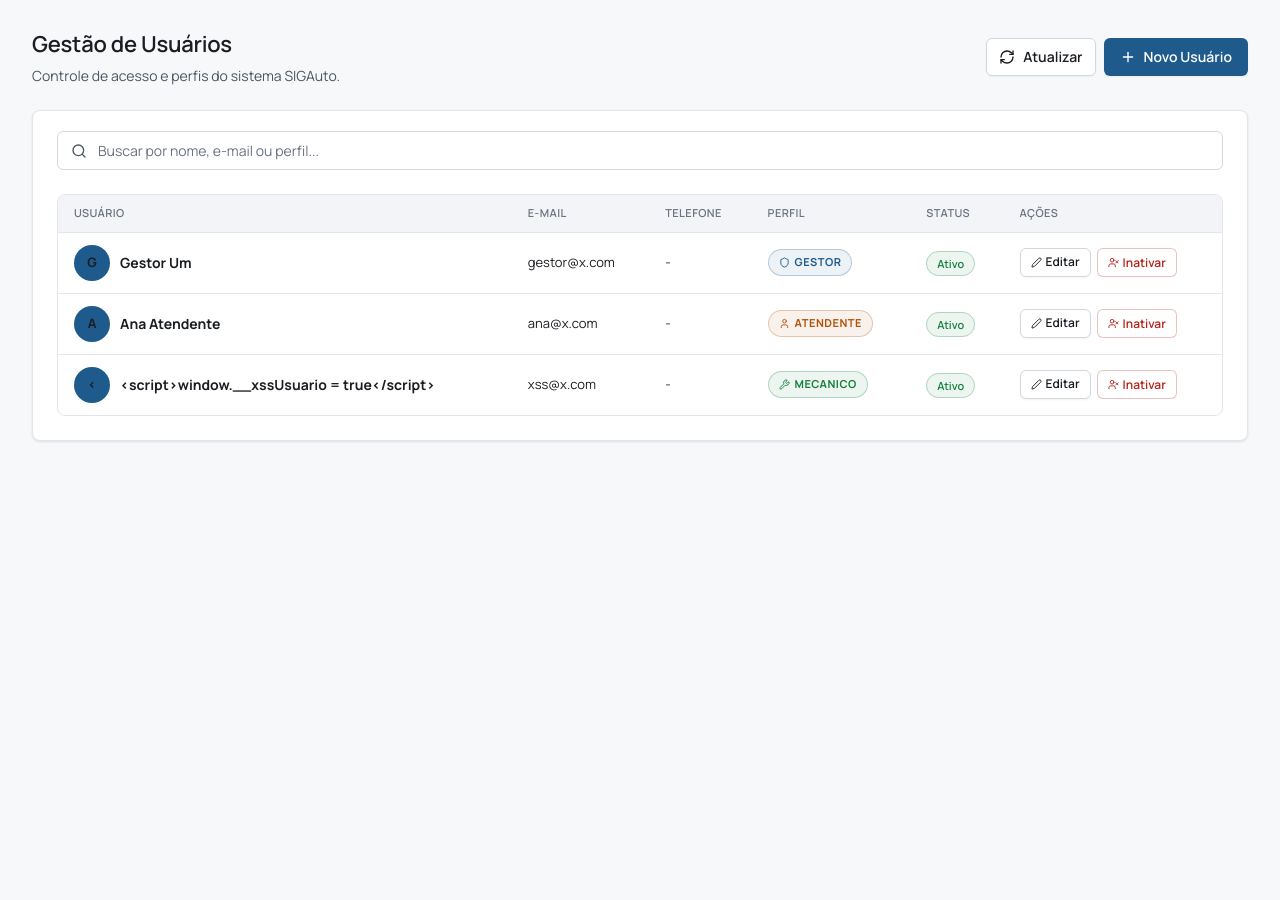
Test: Usuarios — validação do formulário na tela › deve_rejeitar_perfil_fora_do_enum_antes_de_chamar_a_api
Expected: the text "Gestor Um" is shown, [120, 252, 192, 273]
Click the button "Novo Usuário" at (1176, 57), box [1104, 38, 1248, 76]
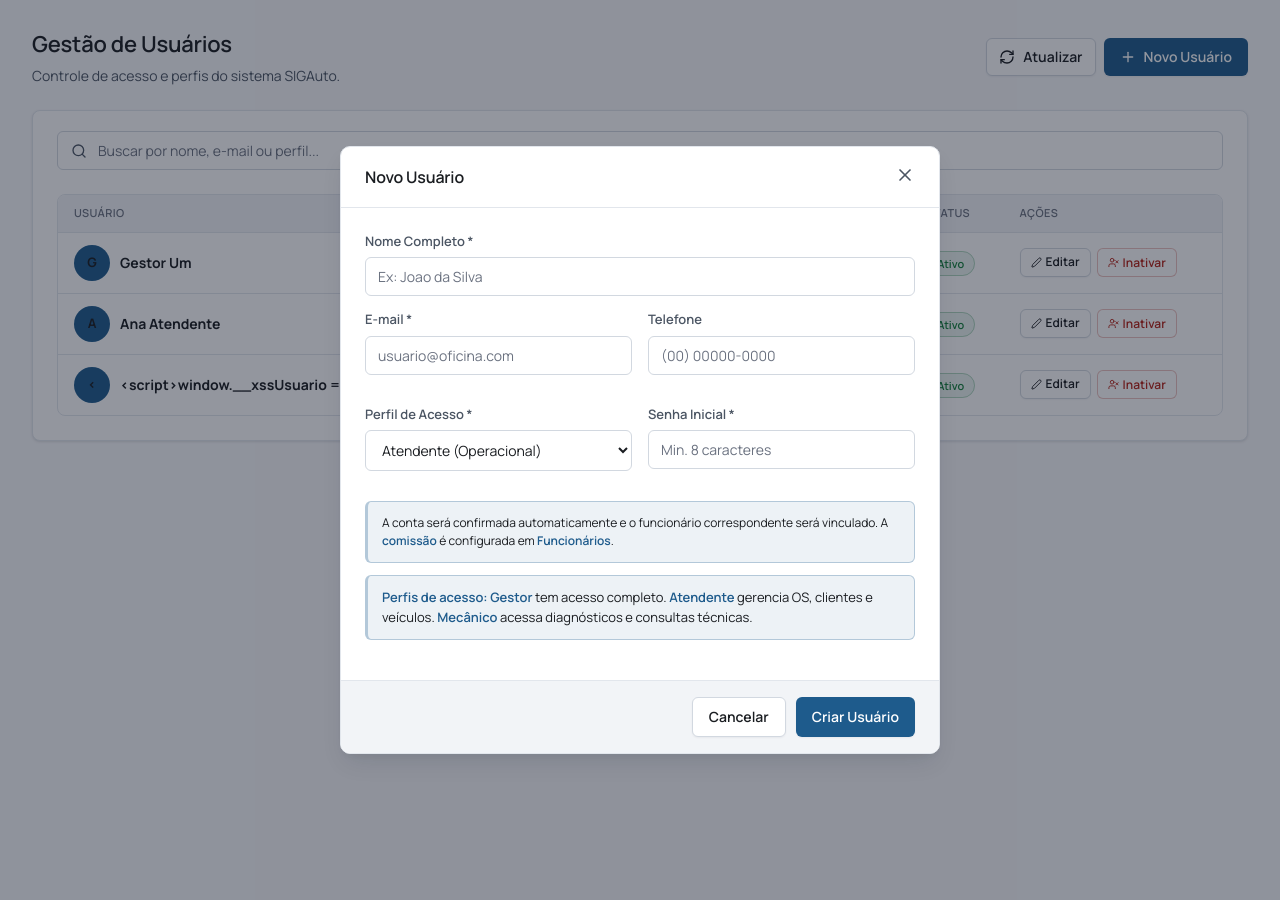
Type "Novo Usuario" into the field with placeholder "Ex: Joao da Silva" at (640, 277), box [365, 258, 915, 296]
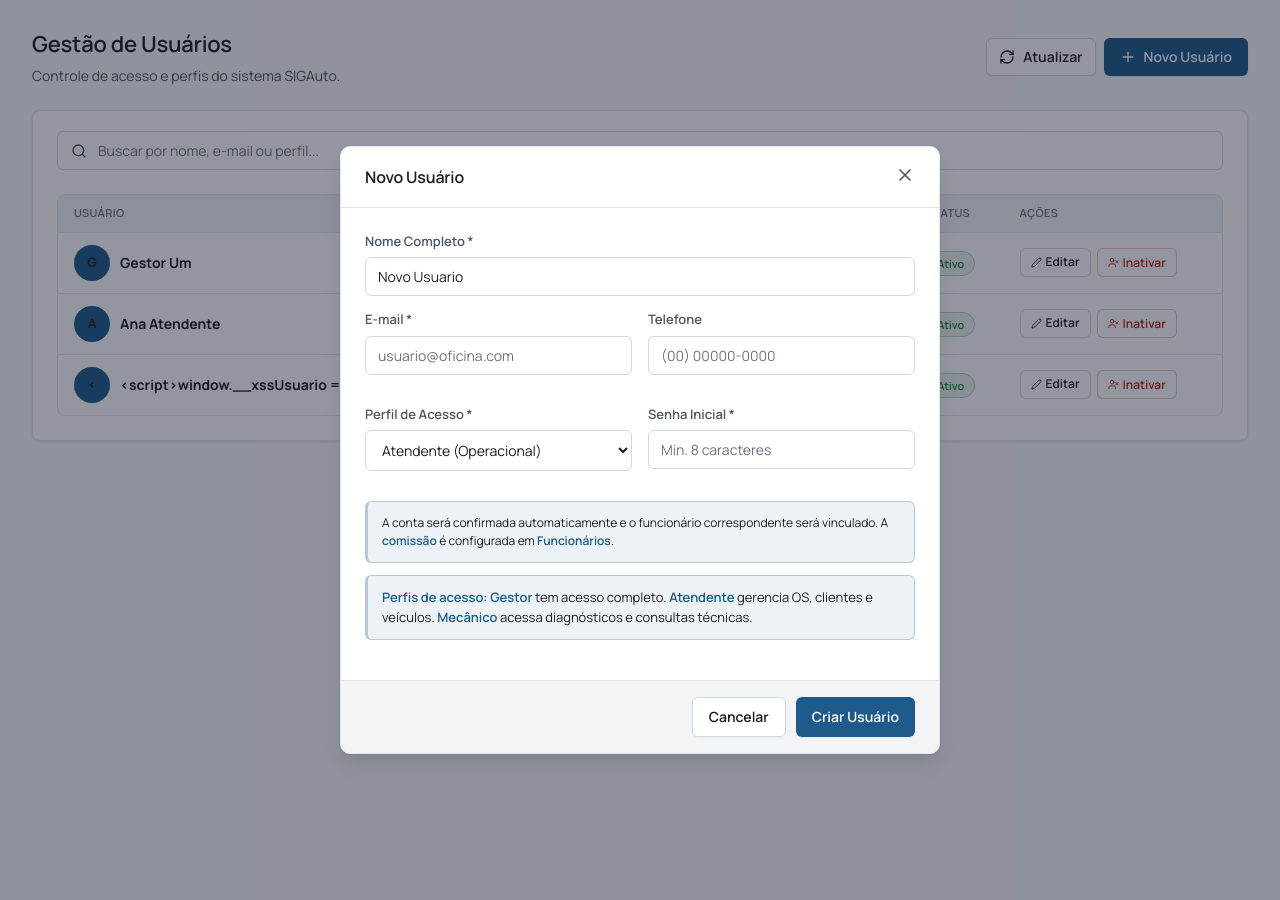
Type "novo@oficina.com" into the field with placeholder "usuario@oficina.com" at (498, 356), box [365, 336, 632, 375]
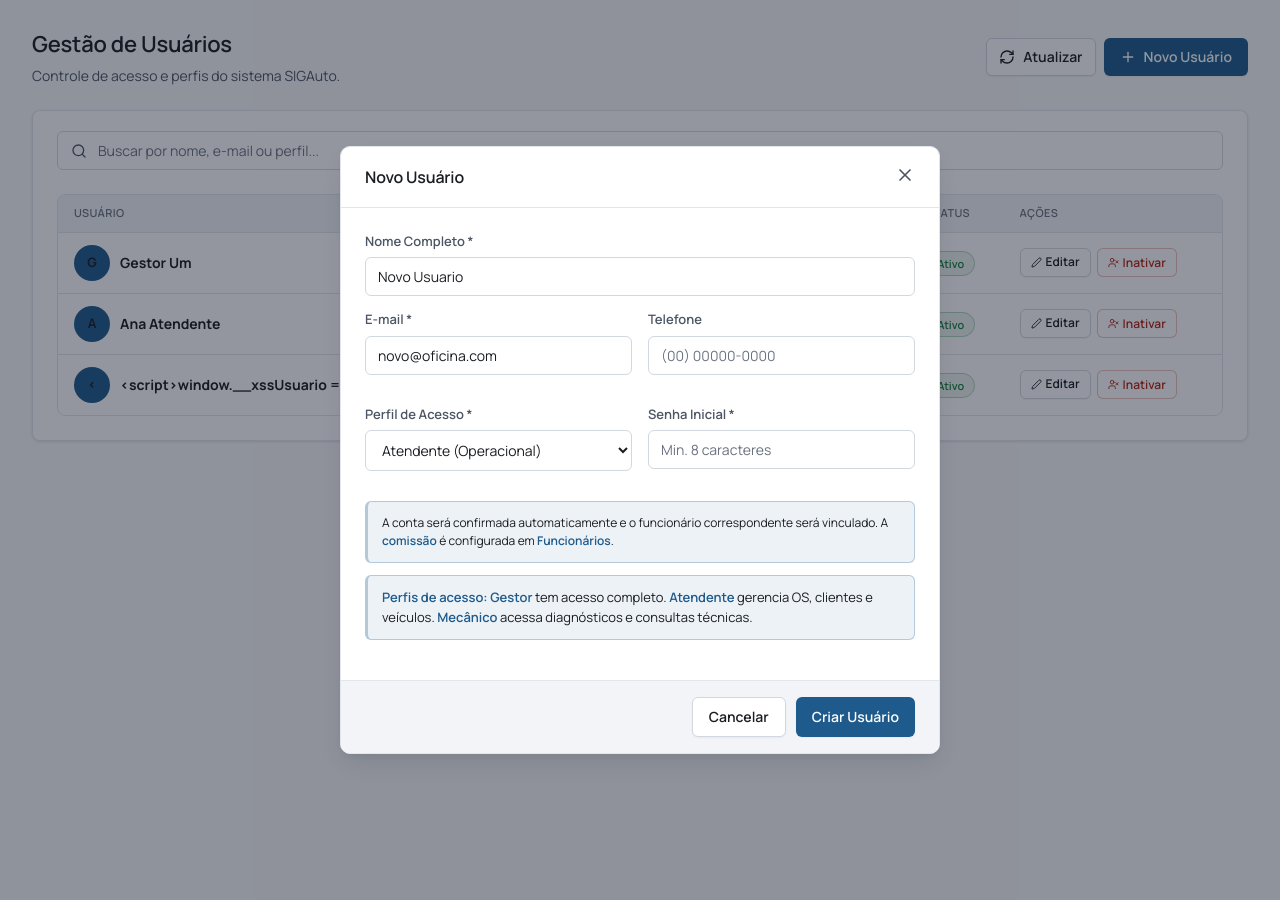
Type "Senha1234" into the password field with placeholder "Min. 8 caracteres" at (782, 450), box [648, 430, 915, 470]
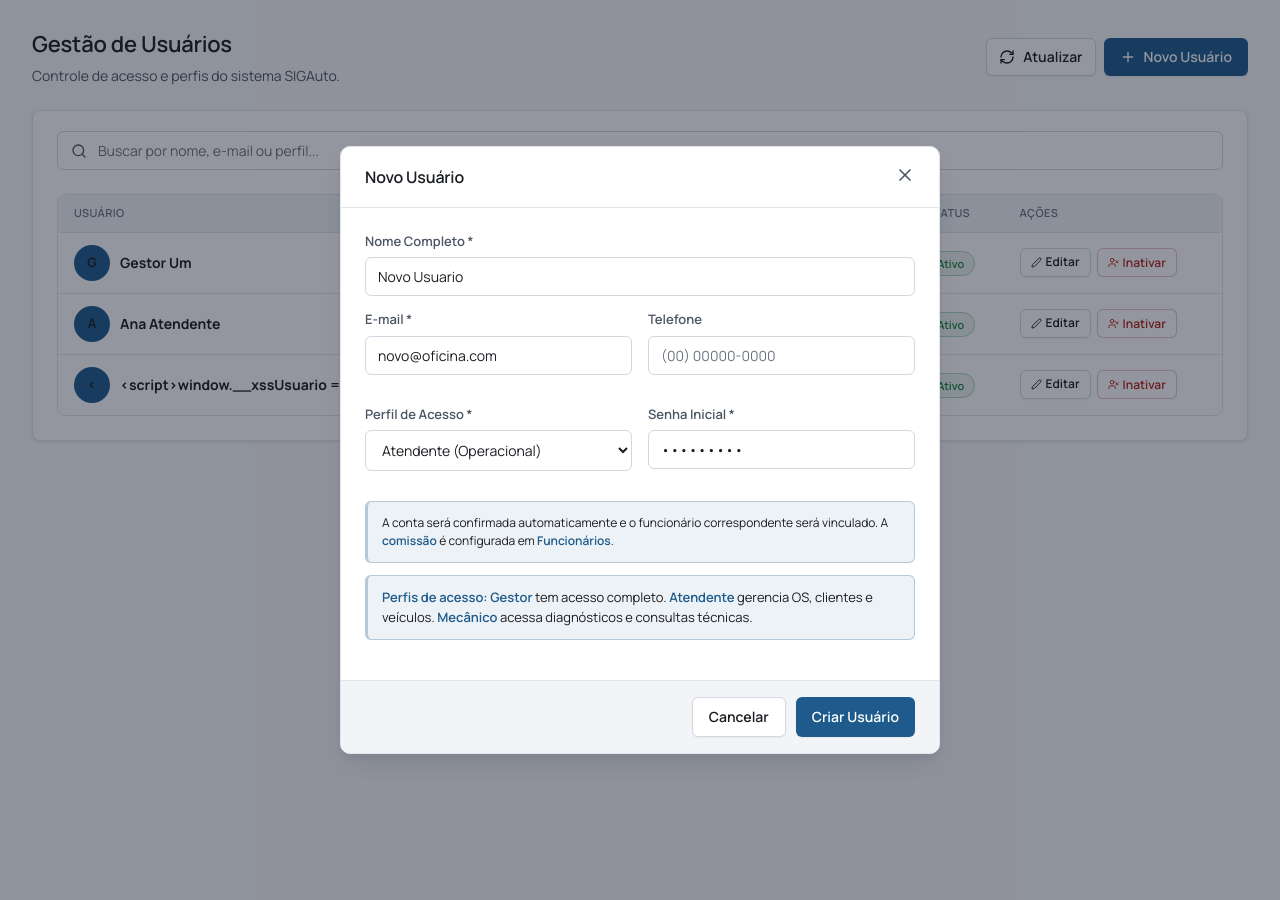
Select "superadmin" in the dropdown at (498, 451), box [365, 430, 632, 472]
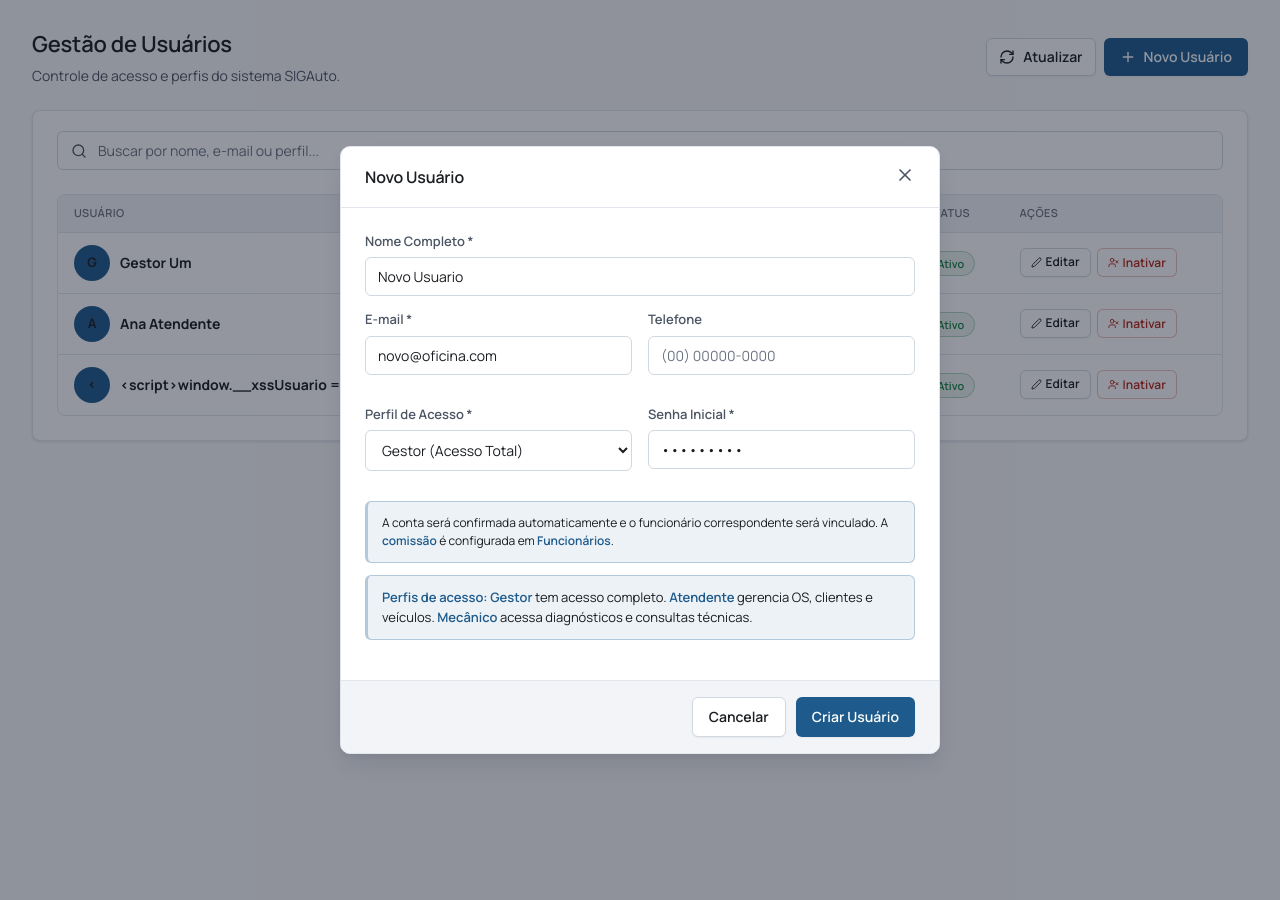
Submit the form named "Criar Usuário", box [341, 208, 939, 753]
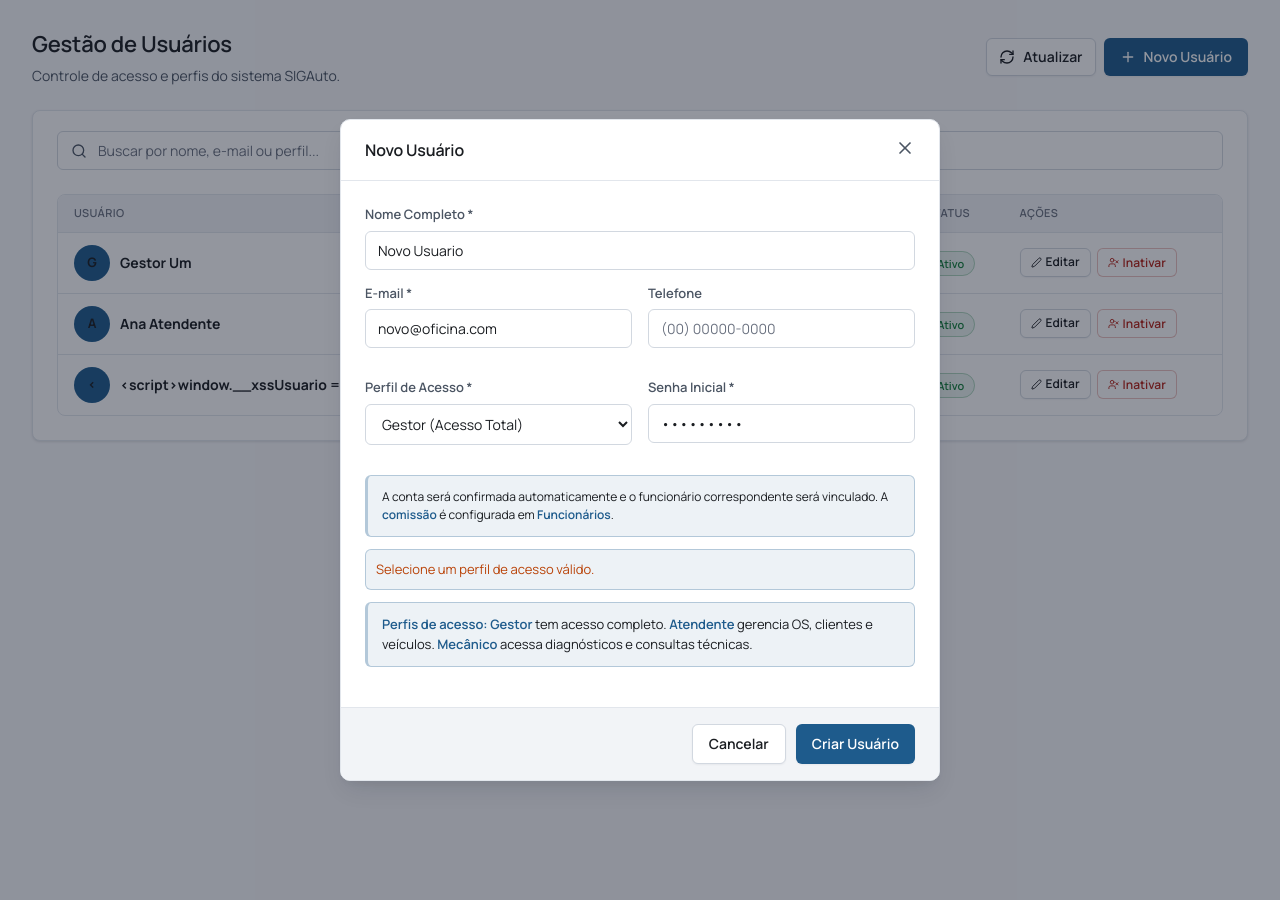
Result: the text "Selecione um perfil de acesso válido." is shown at [365, 549, 915, 590]
